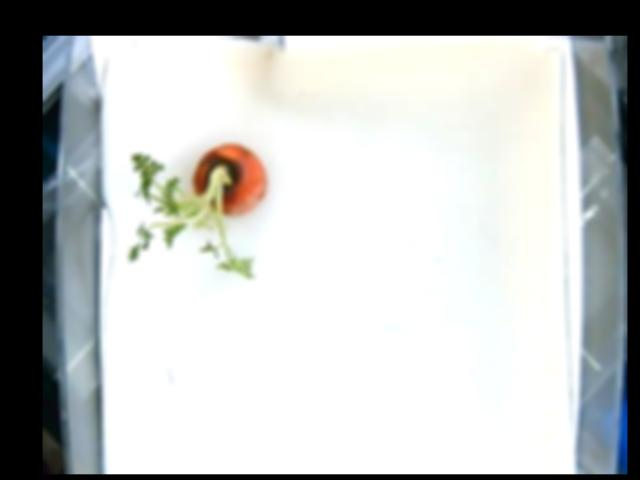Carrot: (124, 144, 270, 280)
